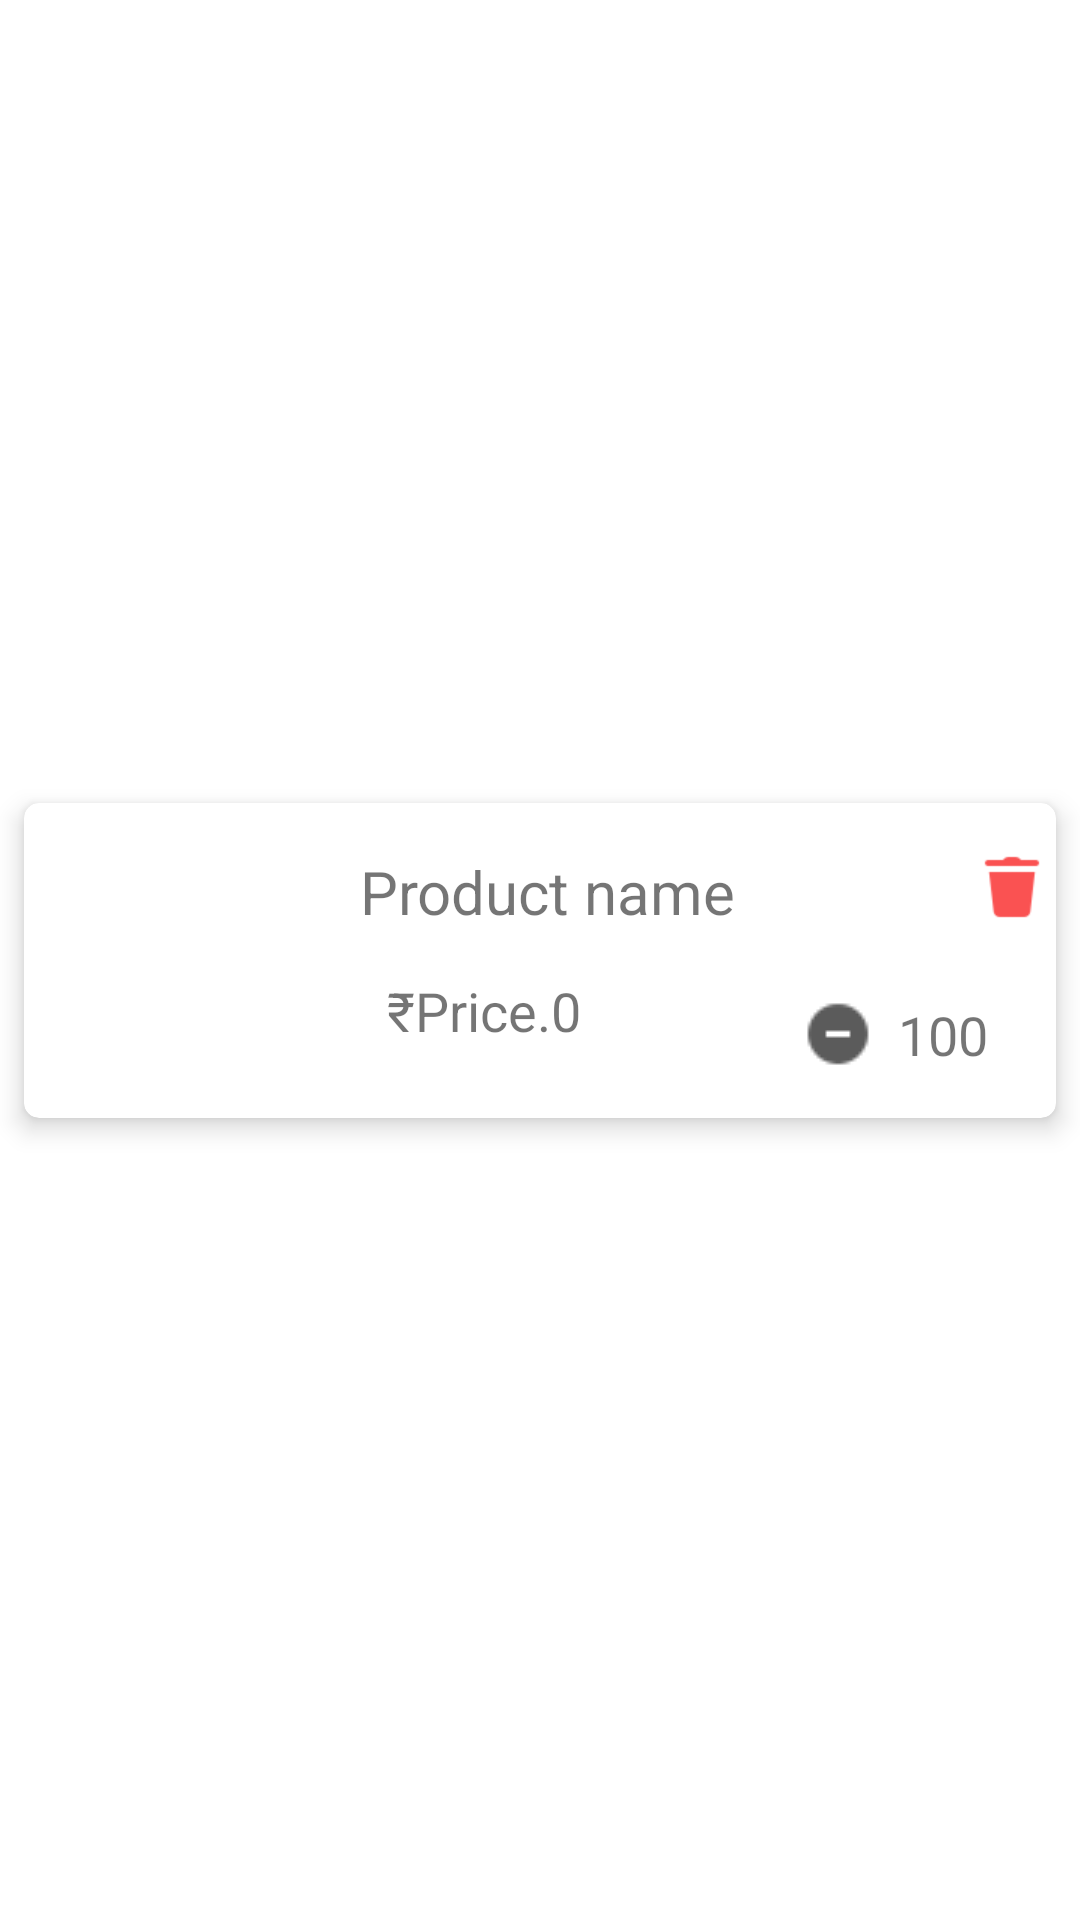

Icon bounding boxes for this 1080x1920 phone screenshot, format (x1, y1, x2, y2):
delete: (984, 856, 1040, 918)
minus: (807, 1003, 869, 1065)
